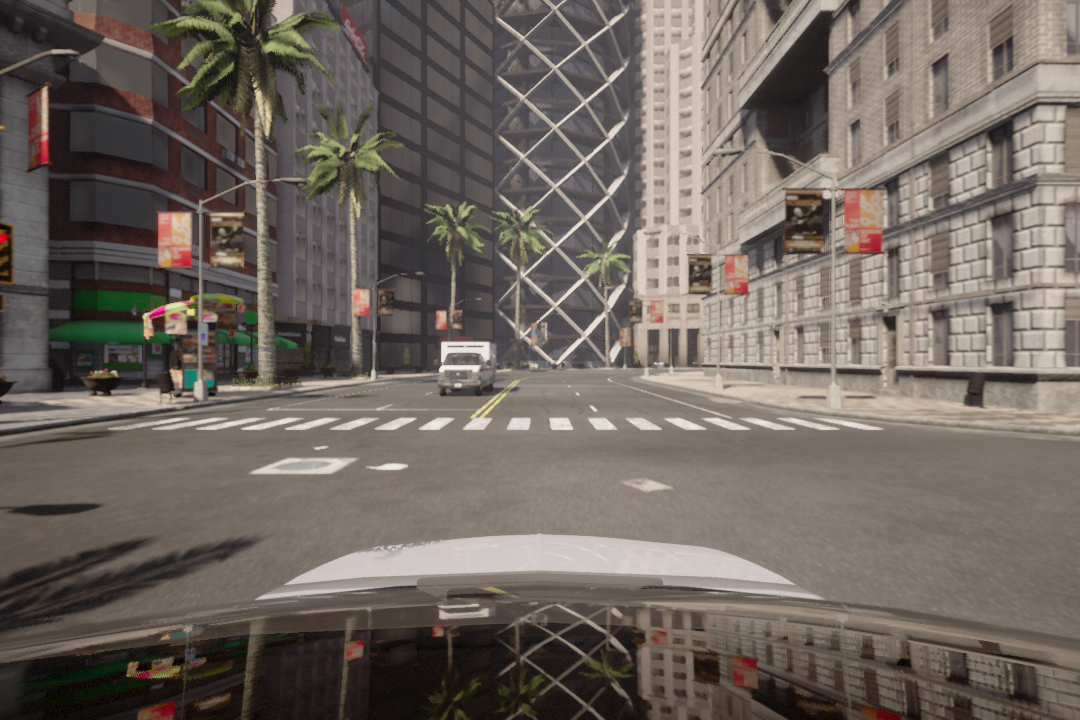walkside: (101, 410, 896, 442)
